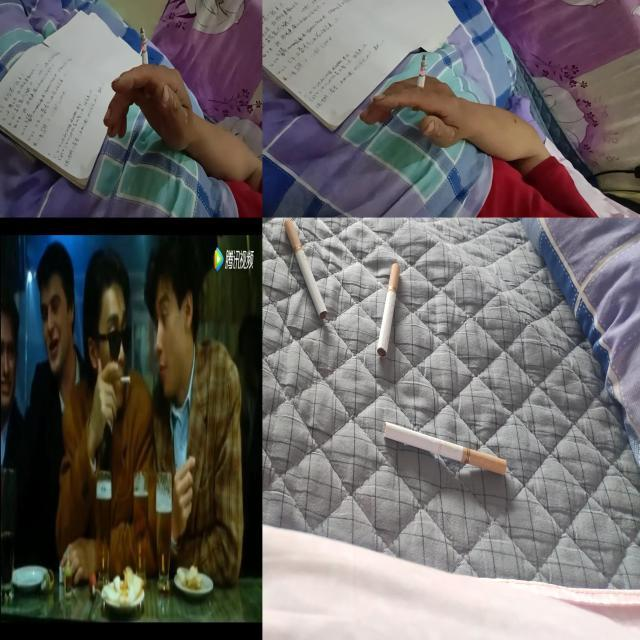smoking: (384, 421, 508, 476), (284, 221, 330, 321), (378, 263, 401, 358), (412, 54, 428, 112), (140, 27, 150, 99), (120, 375, 131, 385)
